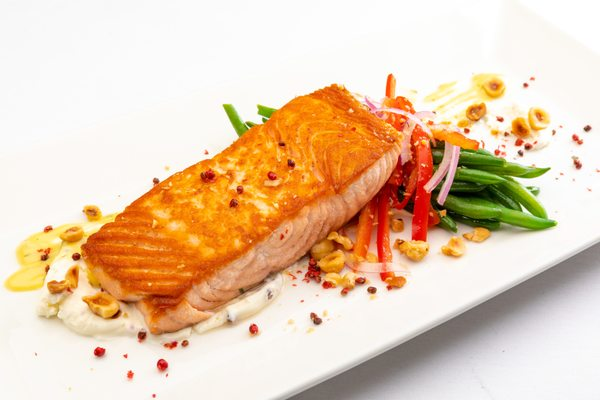soup: (73, 82, 422, 338)
